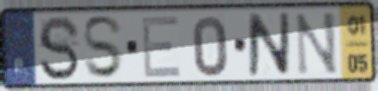0: (190, 12, 231, 79)
E: (139, 13, 183, 80)
N: (246, 10, 292, 78), (294, 10, 340, 78)
S: (36, 13, 82, 83), (81, 14, 126, 81)
